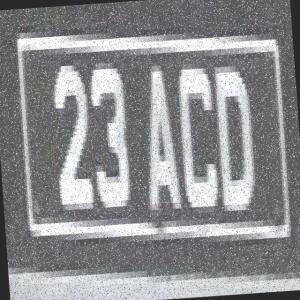Plate: (4, 5, 297, 294)
